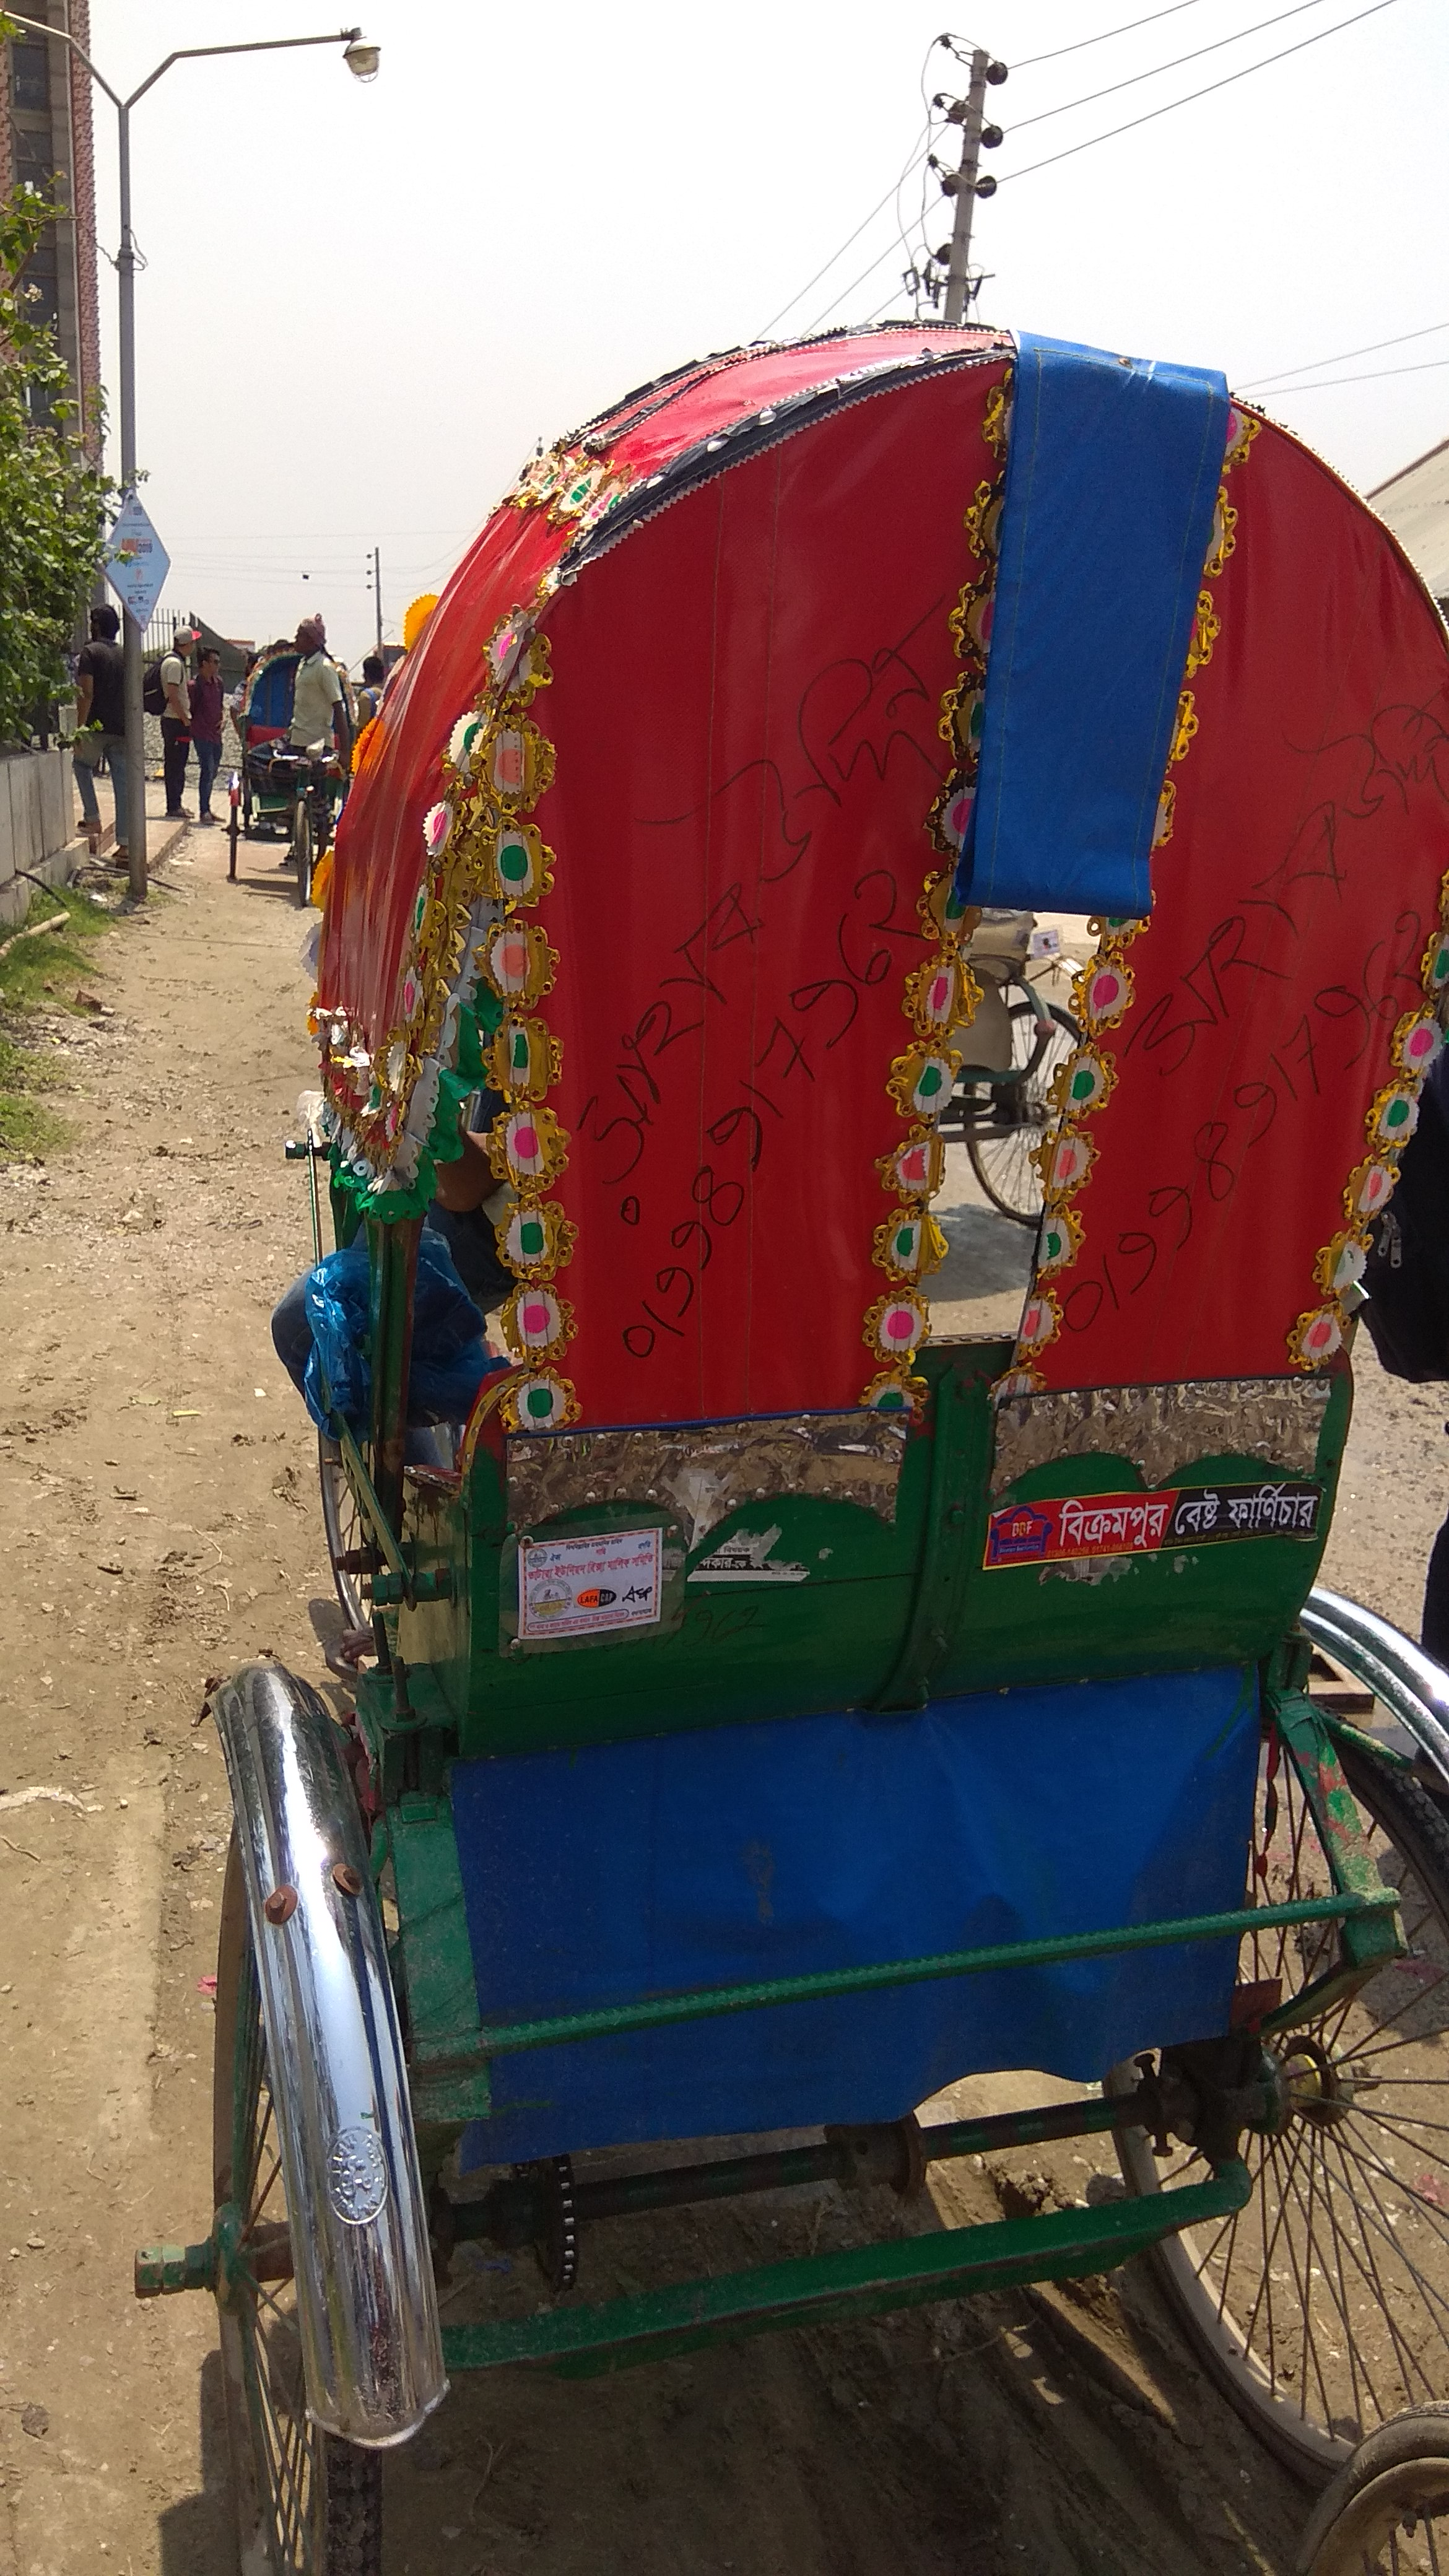Rickshaw: (311, 345, 1447, 2075), (211, 612, 370, 855)
